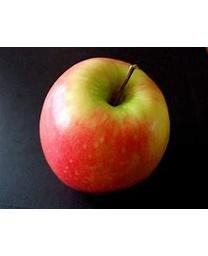apple: (38, 57, 170, 194)
